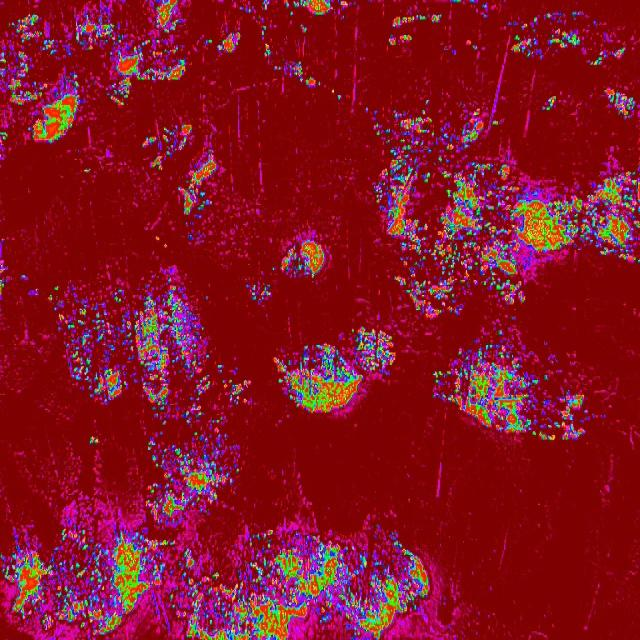fire: (0, 524, 431, 640), (363, 106, 528, 318), (50, 268, 222, 424), (430, 328, 600, 454), (82, 0, 192, 106), (0, 10, 80, 149), (528, 170, 640, 269), (275, 327, 394, 413), (138, 429, 240, 521), (142, 126, 219, 240), (507, 11, 607, 67), (281, 232, 327, 276), (273, 58, 325, 90), (220, 366, 256, 410), (283, 0, 352, 18), (606, 85, 635, 124), (390, 9, 446, 26), (212, 28, 246, 54), (246, 279, 273, 307), (256, 19, 270, 61), (384, 33, 416, 47), (540, 92, 556, 117), (466, 36, 481, 56), (612, 43, 627, 61), (0, 252, 6, 292), (329, 86, 344, 102), (236, 4, 254, 17), (87, 433, 99, 449), (296, 23, 310, 33), (482, 0, 488, 21), (20, 271, 31, 281), (203, 36, 214, 46), (261, 0, 270, 11), (84, 166, 92, 177), (450, 0, 464, 5), (270, 266, 276, 273), (424, 97, 430, 104)
